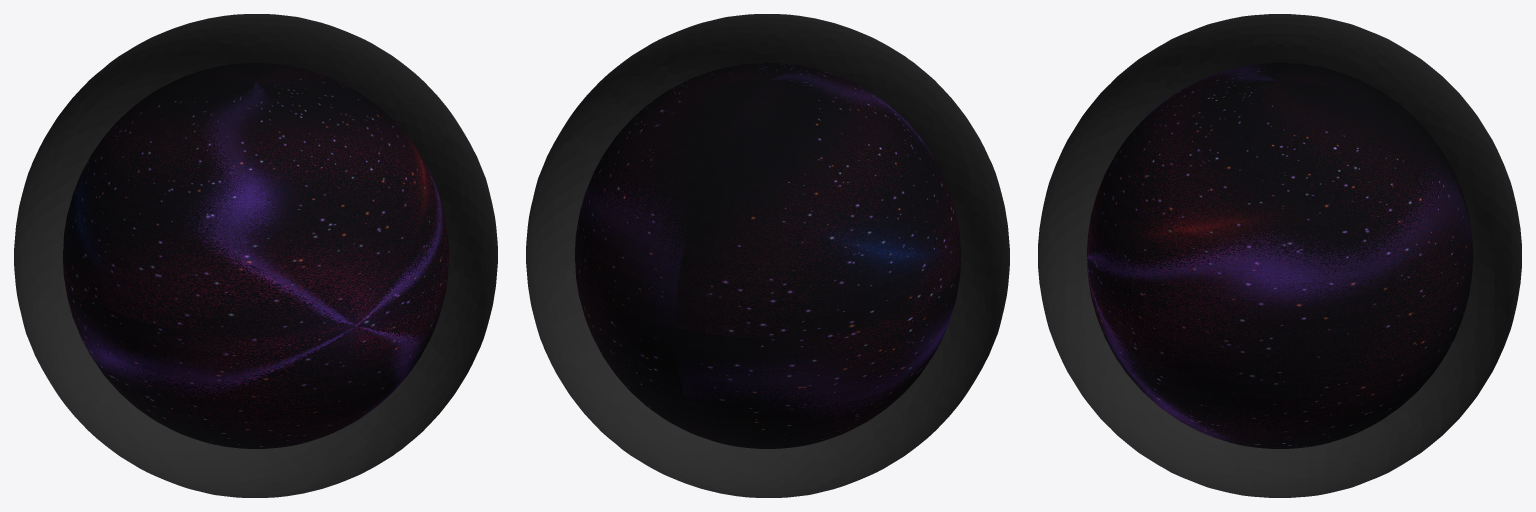
File: Boss.gltf
3 views of the same model, side by side, from view 1: azimuth 30°, elevation 25°; view 2: azimuth 150°, elevation 25°; view 3: azimuth 270°, elevation 25° (orthographic).
Visible parts, largest first — view 1: 球, 球.001; view 2: 球, 球.001; view 3: 球, 球.001.
Part boxes in pixels (x1=…): 球: x1=63, y1=63, x2=448, y2=448; 球.001: x1=14, y1=14, x2=497, y2=497; 球: x1=575, y1=63, x2=960, y2=448; 球.001: x1=526, y1=14, x2=1009, y2=497; 球: x1=1086, y1=63, x2=1473, y2=448; 球.001: x1=1038, y1=14, x2=1521, y2=497.
Size of the model in its own units: 1.98 by 1.98 by 1.98.
Materials: 2 (1 with a texture image).
